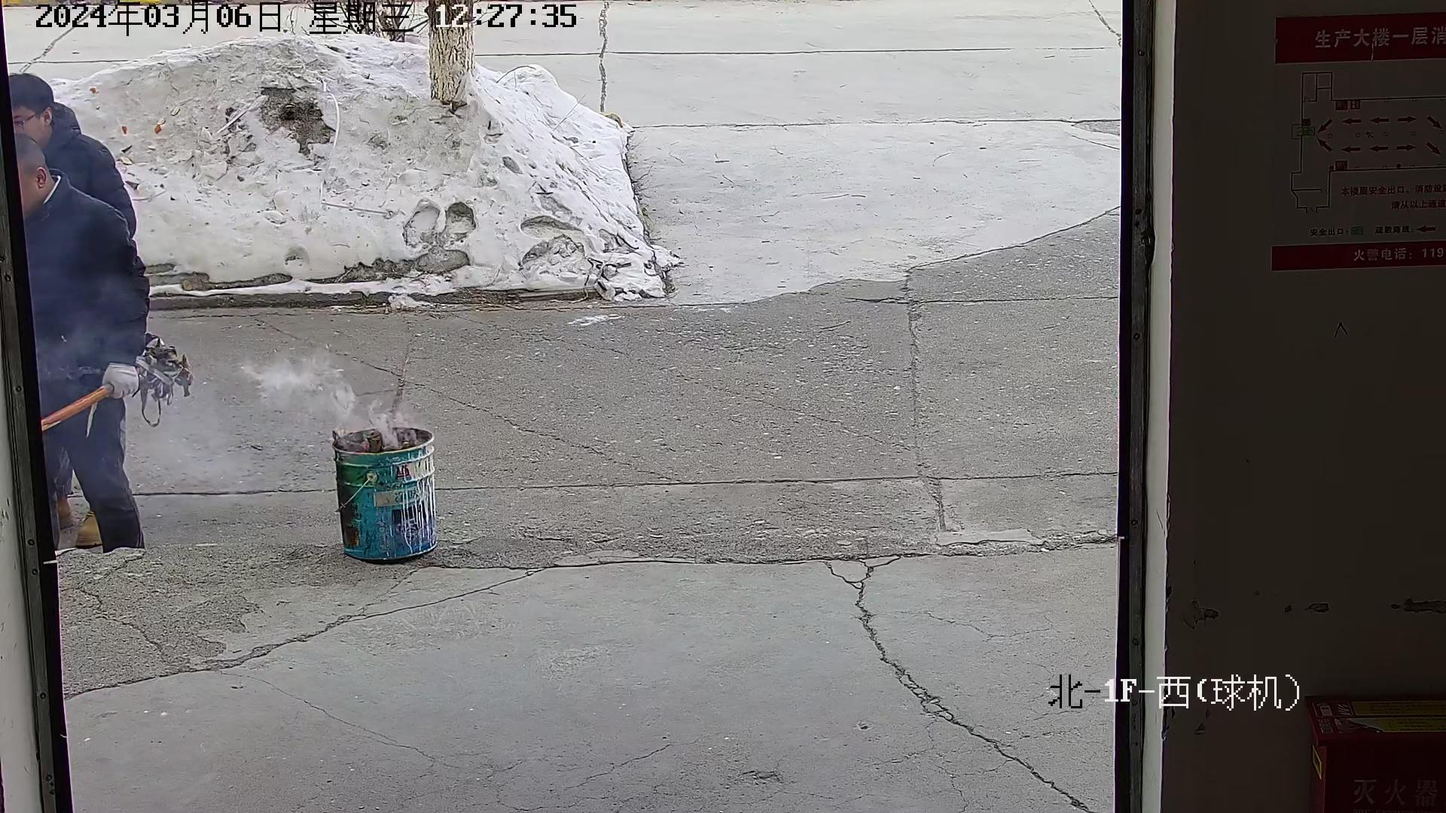smoke: (243, 350, 408, 443)
